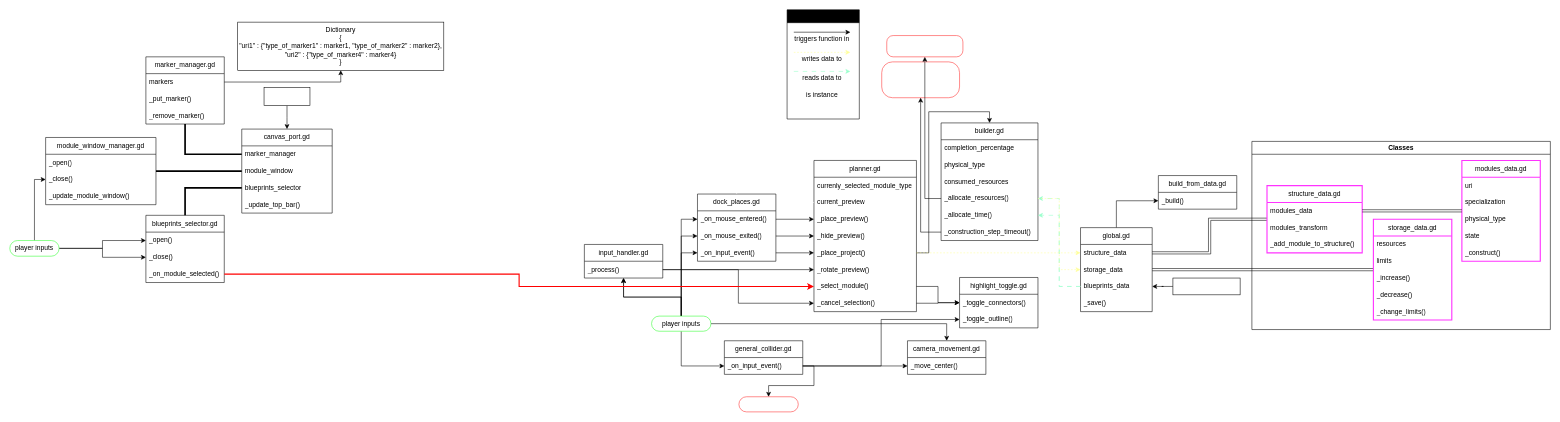
Image size: 1560x422. Some labels were removed from this diagram. The centre of each missing label's shape, as x and y in pixels:
"Attached to CanvasLayer" belongs at [286,96].
"blueprints_data.json" belongs at [1206,286].
"open UI window" belongs at [768,404].
"Update UI (component - constructing module window)" belongs at [920,79].
"Update UI (component - module marker)" belongs at [924,46].
